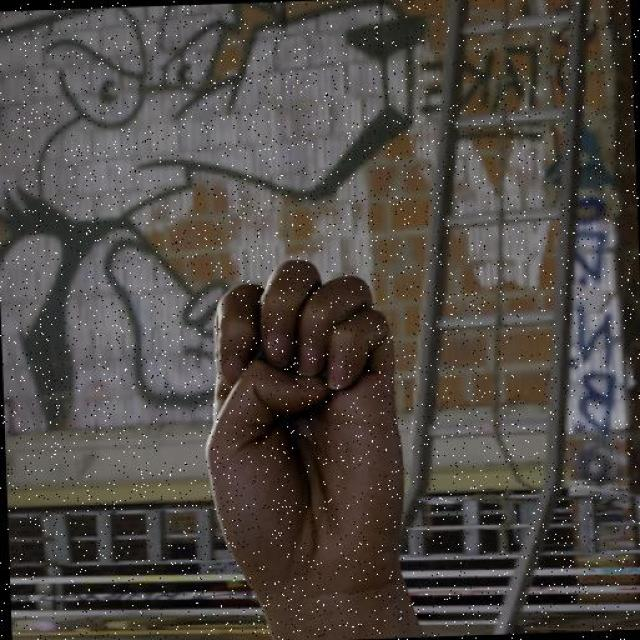E: (197, 252, 412, 593)
